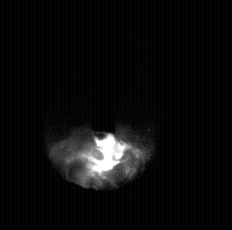arame: (92, 0, 117, 139)
poca: (47, 0, 154, 230)
